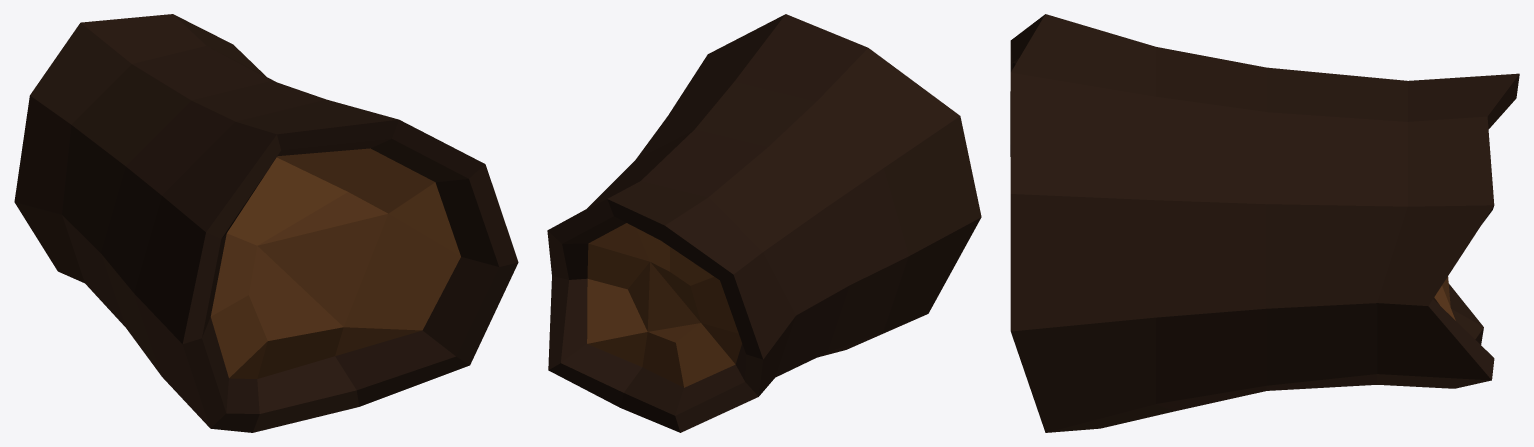
The model's file is Log_Model_02.FBX.
3 renders of one model, left to right at view 1: azimuth 30°, elevation 25°; view 2: azimuth 150°, elevation 25°; view 3: azimuth 270°, elevation 25°, orthographic. The views are drawn at different scales.
Visible parts, largest first — view 1: Cylinder001; view 2: Cylinder001; view 3: Cylinder001.
Boxes of the visible parts, x1,y1,x2,y2 form: Cylinder001: (14,14,518,432); Cylinder001: (547,14,981,432); Cylinder001: (1010,14,1519,432).
Bounding box in the file's own units: 13.02 × 11.72 × 15.21.
